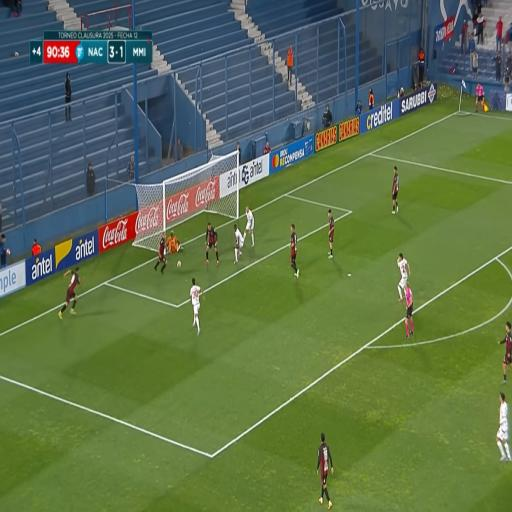Ball: (176, 259, 182, 269)
Goalkeeper: (162, 228, 187, 254)
Player: (317, 430, 334, 511), (57, 265, 81, 322), (497, 392, 511, 464), (188, 276, 204, 338), (152, 230, 169, 277), (501, 316, 512, 386), (203, 222, 219, 267), (289, 223, 301, 278), (242, 202, 255, 248), (230, 223, 244, 265), (398, 252, 409, 302), (326, 208, 335, 261), (390, 166, 399, 216)
Referee: (404, 282, 416, 342), (474, 80, 488, 114)
